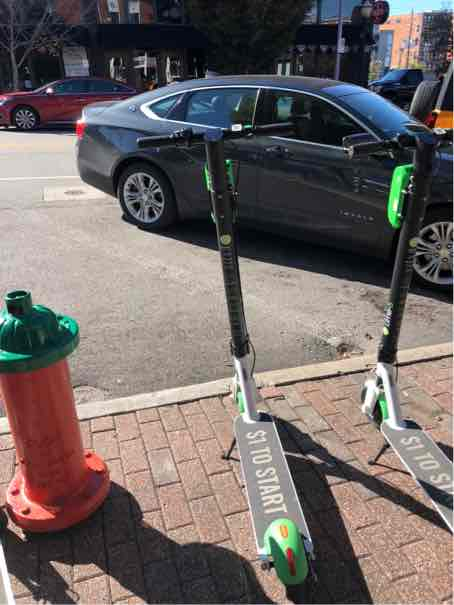scooter: (137, 109, 352, 599)
